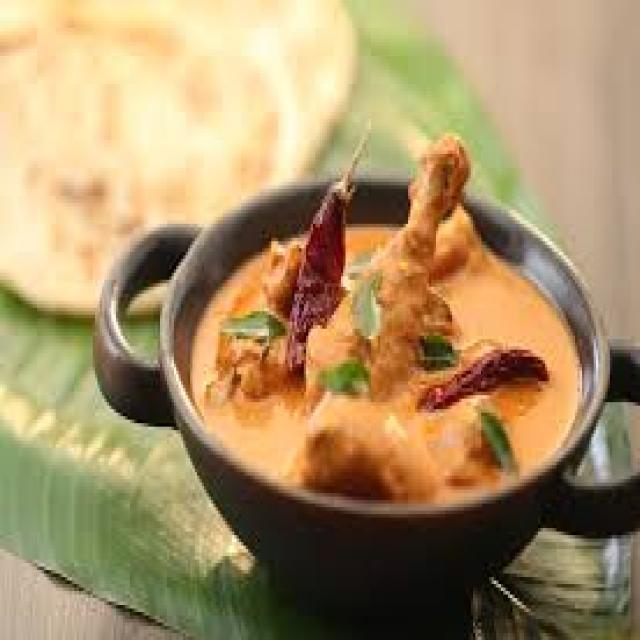Frango: (195, 130, 584, 510)
